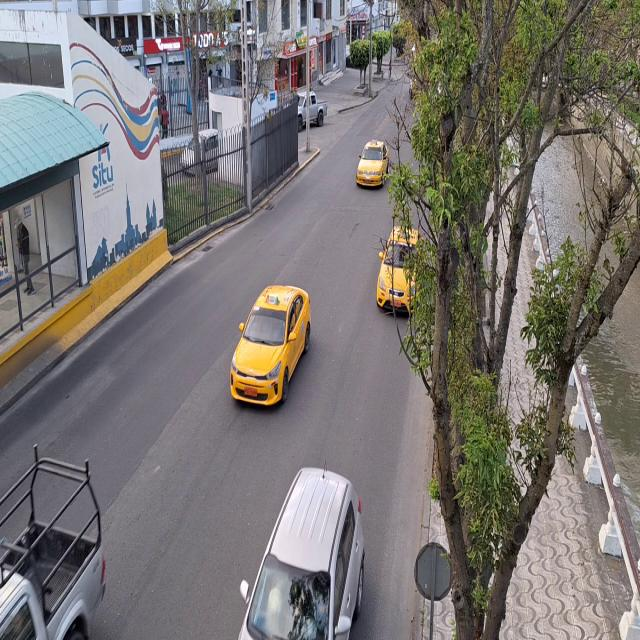CMT: (0, 455, 110, 640), (297, 90, 328, 129)
SED: (232, 282, 311, 423), (354, 138, 391, 191)
